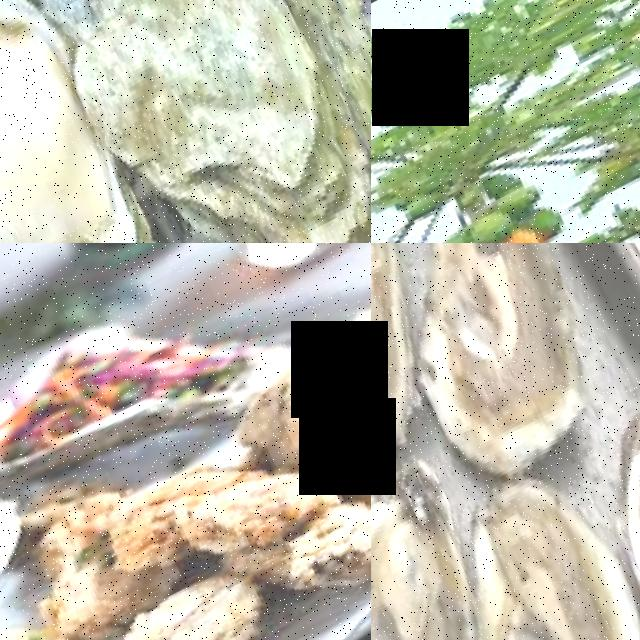oysters: (17, 0, 371, 243), (371, 243, 632, 481), (0, 0, 198, 243), (424, 445, 640, 640), (371, 444, 556, 640), (563, 374, 640, 640), (371, 243, 452, 472)
pawpaw: (460, 202, 518, 243), (492, 220, 552, 243)
